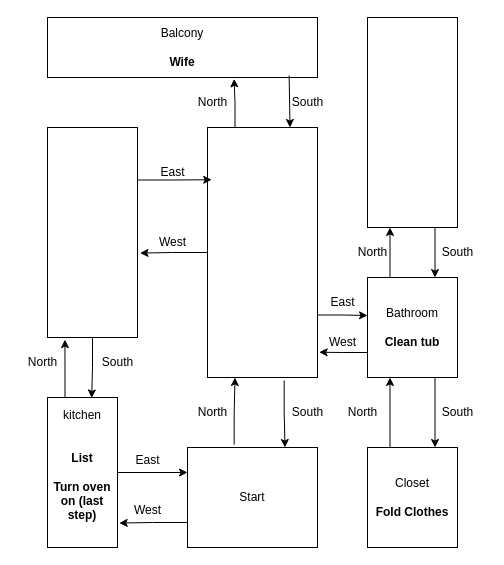
Some shapes in this 504 by 565 pixel diagram are drawn without their labels. The shapes that lost their labels are listed below. From the top down, each one's box as (x1, y1, x2, y2) in pixels, then its label:
(366, 16, 458, 228): Bedroom Make bed
(46, 126, 138, 338): Dinning Vacuum floor
(206, 126, 318, 378): Living Dust TV stand
